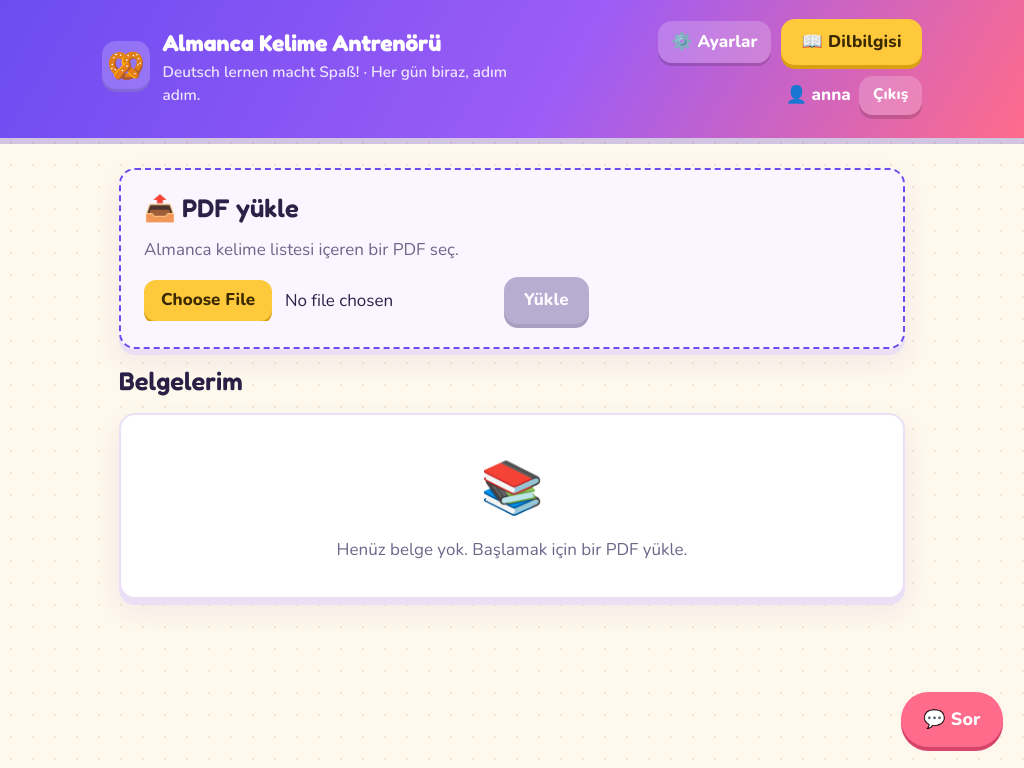
Scenario: ChatPanel › sends the conversation so far with every question, and Enter sends
Click the button "💬 Sor".
click(952, 719)  # box [901, 692, 1003, 747]
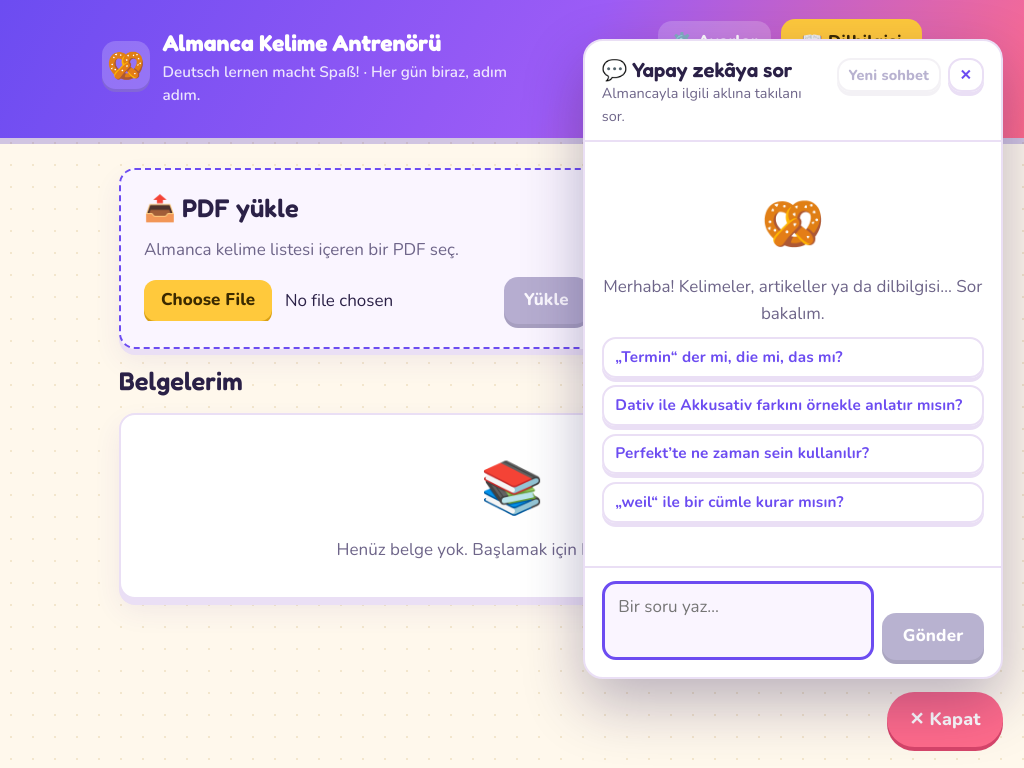
Type "Birinci" into the text box named "Sorun".
click(738, 620); type("Birinci")  # box [602, 581, 874, 660]
Then press Enter
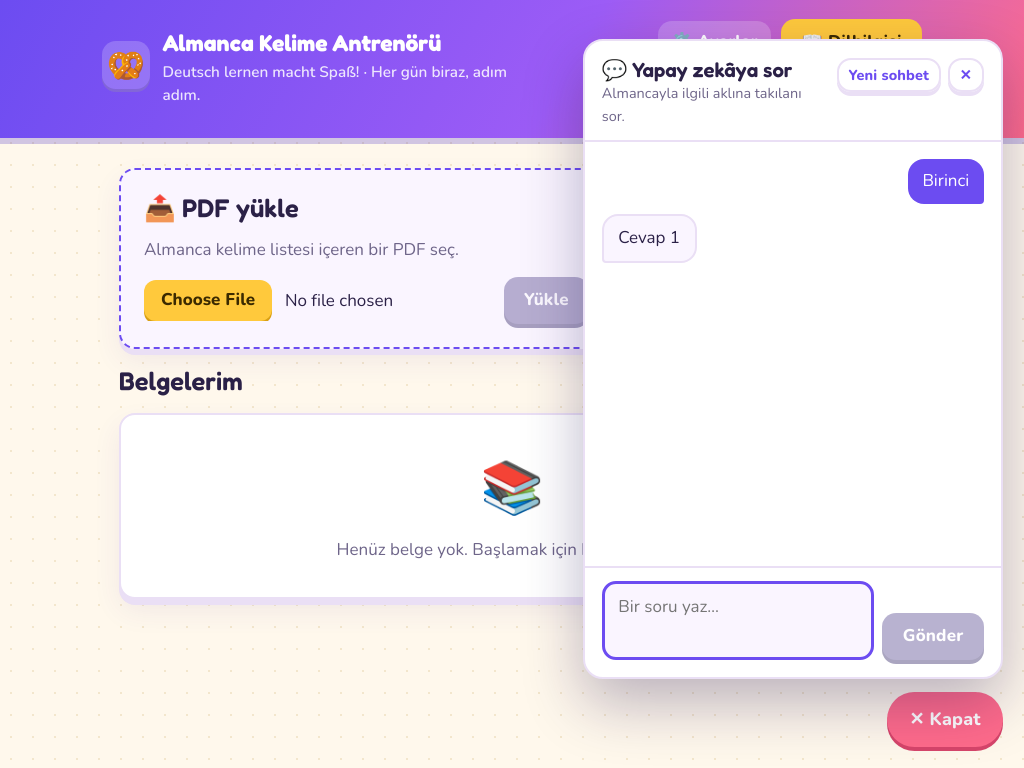
Expected: the text "Cevap 1" is shown, [618, 226, 680, 251]
Type "İkinci" into the text box named "Sorun".
click(738, 620); type("İkinci")  # box [602, 581, 874, 660]
Then press Enter
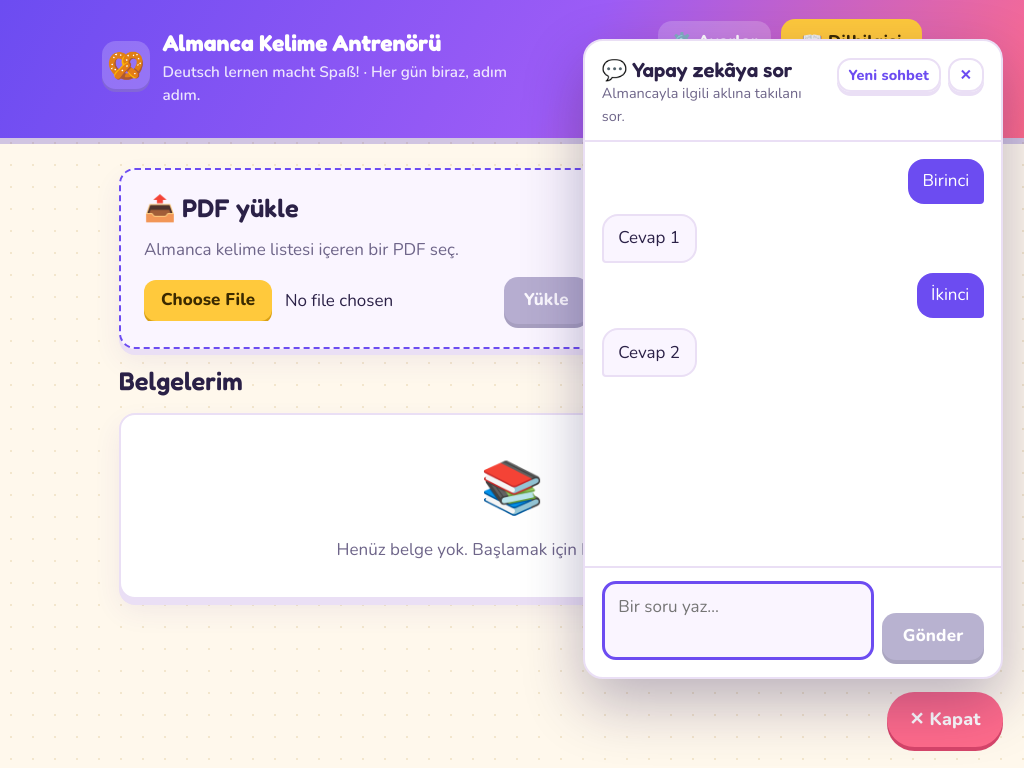
Expected: the text "Cevap 2" is shown, [618, 341, 680, 365]
